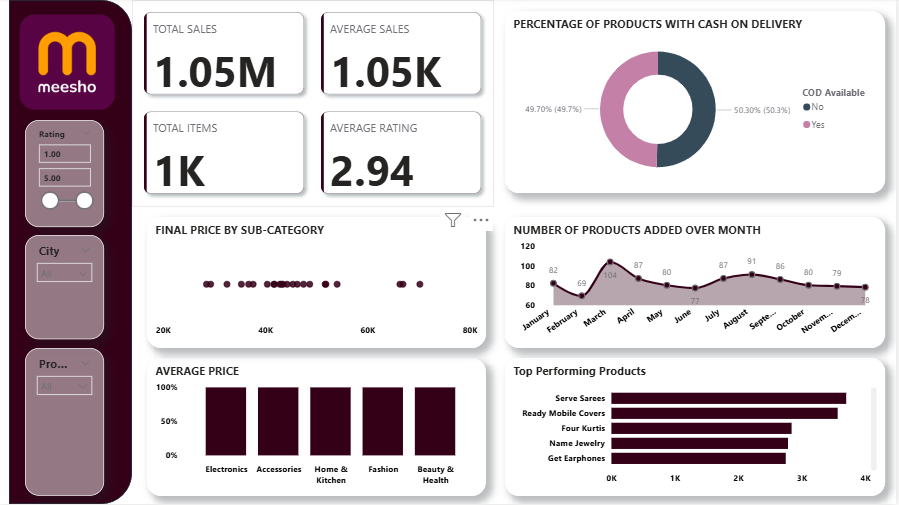

Layout of this report page (visuals, bound fields, positions):
{"tool":"powerbi","page":{"name":"Page 1","canvas":[1280,720],"ordinal":0},"visuals":[{"type":"shape","box":[12.9,0,175.7,720],"z":0},{"type":"image","box":[2.9,15.7,185.7,145.7],"z":1000},{"type":"hundredPercentStackedColumnChart","title":"AVERAGE PRICE","fields":{"Y":["Avg(meesho_dataset_large.Final Price)"],"Category":["meesho_dataset_large.Category"]},"box":[210,511.4,484.3,197.1],"z":2000},{"type":"scatterChart","title":"FINAL PRICE BY SUB-CATEGORY","fields":{"X":["Sum(meesho_dataset_large.Final Price)"],"Category":["meesho_dataset_large.Subcategory"]},"box":[210,310,484.3,187.1],"z":3000},{"type":"lineChart","title":"NUMBER OF PRODUCTS ADDED OVER MONTH","fields":{"Category":["meesho_dataset_large.Date Added.Variation.Date Hierarchy.Month"],"Y":["CountNonNull(meesho_dataset_large.Product ID)"]},"box":[721.4,310,542.9,187.1],"z":4000},{"type":"barChart","title":"Top Performing Products","fields":{"Category":["meesho_dataset_large.Product Name"],"Y":["Sum(meesho_dataset_large.Final Price)"]},"box":[721.4,511.4,542.9,197.1],"z":5000},{"type":"cardVisual","fields":{"Data":["Sum(meesho_dataset_large.Final Price)","Avg(meesho_dataset_large.Final Price)","CountNonNull(meesho_dataset_large.Product ID)","Avg(meesho_dataset_large.Rating)"]},"box":[188.6,0,517.1,295.7],"z":6000},{"type":"donutChart","title":"PERCENTAGE OF PRODUCTS WITH CASH ON DELIVERY ","fields":{"Series":["meesho_dataset_large.COD Available"],"Y":["CountNonNull(meesho_dataset_large.Product ID)"]},"box":[721.4,15.7,542.9,260],"z":7000},{"type":"slicer","fields":{"Values":["meesho_dataset_large.Rating"]},"box":[22.9,171.4,155.7,152.9],"z":8000},{"type":"slicer","fields":{"Values":["meesho_dataset_large.City"]},"box":[22.9,335.7,155.7,161.4],"z":9000},{"type":"slicer","fields":{"Values":["meesho_dataset_large.Product Name"]},"box":[22.9,511.4,155.7,180],"z":10000},{"type":"qnaVisual","box":[694.3,295.7,150,424.3],"z":10001}]}

Visuals, with their boxes in screenshot pixels (x1, y1, x2, y2), scaled from the page's 1280x720 canvas onto the 899x505 screenshot:
shape: <bbox>9, 0, 132, 504</bbox>
image: <bbox>2, 11, 132, 113</bbox>
"AVERAGE PRICE" hundredPercentStackedColumnChart: <bbox>147, 359, 488, 497</bbox>
"FINAL PRICE BY SUB-CATEGORY" scatterChart: <bbox>147, 217, 488, 349</bbox>
"NUMBER OF PRODUCTS ADDED OVER MONTH" lineChart: <bbox>507, 217, 888, 349</bbox>
"Top Performing Products" barChart: <bbox>507, 359, 888, 497</bbox>
cardVisual - Sum(meesho_dataset_large.Final Price) x Avg(meesho_dataset_large.Final Price): <bbox>132, 0, 496, 207</bbox>
"PERCENTAGE OF PRODUCTS WITH CASH ON DELIVERY " donutChart: <bbox>507, 11, 888, 193</bbox>
slicer - meesho_dataset_large.Rating: <bbox>16, 120, 125, 227</bbox>
slicer - meesho_dataset_large.City: <bbox>16, 235, 125, 349</bbox>
slicer - meesho_dataset_large.Product Name: <bbox>16, 359, 125, 485</bbox>
qnaVisual: <bbox>488, 207, 593, 504</bbox>
